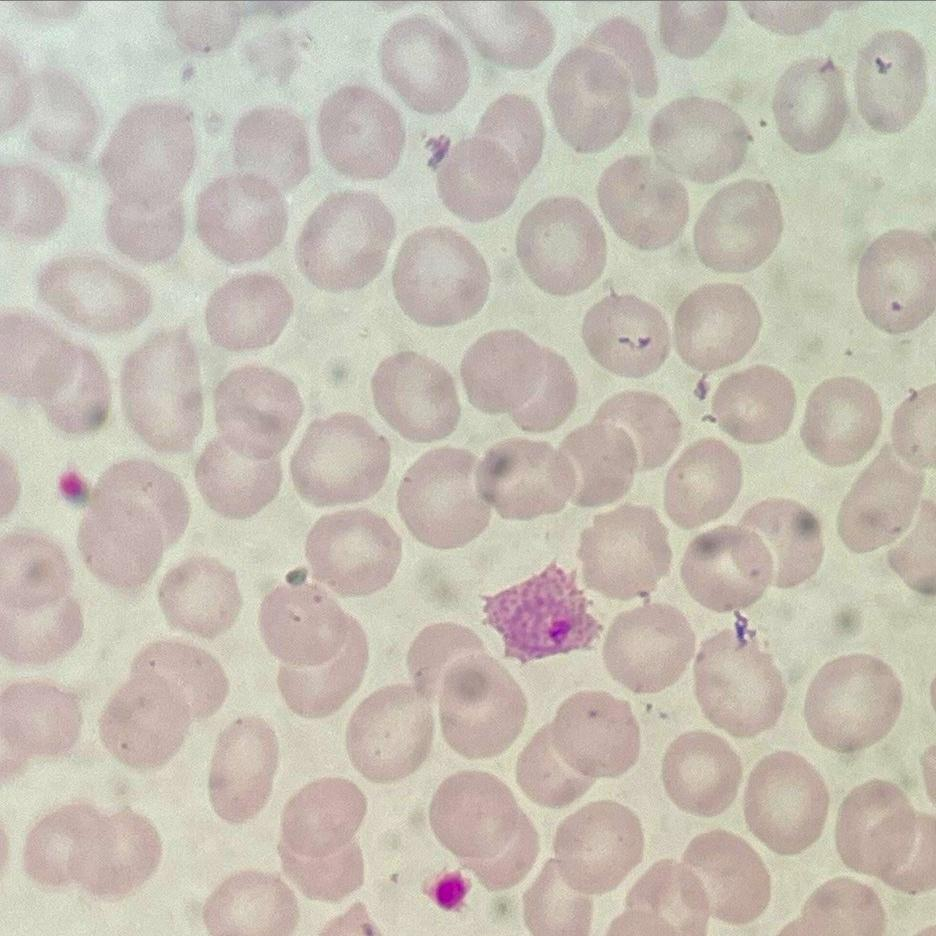Infected: (478, 559, 603, 656)
Uninfected: (98, 642, 228, 771), (1, 312, 111, 436), (78, 467, 189, 587), (25, 800, 156, 900), (459, 330, 575, 431), (428, 768, 536, 876), (426, 649, 527, 759), (119, 328, 206, 449), (295, 191, 398, 292), (100, 101, 200, 203), (691, 627, 785, 734), (833, 780, 927, 886), (288, 413, 392, 508), (390, 225, 488, 324), (545, 42, 636, 148), (802, 653, 901, 750), (516, 193, 608, 297), (396, 447, 492, 546), (35, 253, 149, 336), (278, 617, 372, 717), (209, 364, 306, 460), (377, 15, 471, 113), (574, 505, 670, 600), (194, 171, 293, 263), (837, 447, 922, 554), (547, 799, 643, 893), (546, 691, 641, 784), (594, 158, 688, 251), (370, 350, 465, 441), (302, 508, 400, 596), (649, 94, 749, 180), (473, 437, 574, 522), (853, 228, 936, 331), (433, 133, 529, 222), (741, 752, 827, 851), (278, 777, 370, 869), (316, 84, 407, 177), (344, 687, 434, 781), (690, 178, 779, 272), (12, 66, 100, 161), (600, 602, 693, 690), (678, 526, 771, 613), (1, 679, 83, 777), (578, 288, 669, 376), (672, 283, 761, 371), (853, 28, 929, 131), (736, 497, 821, 589), (560, 416, 645, 507), (680, 827, 765, 918), (772, 56, 852, 151), (661, 438, 744, 527), (229, 105, 315, 190), (264, 581, 351, 665), (799, 375, 881, 464), (204, 273, 294, 354), (207, 715, 277, 817), (591, 389, 680, 469), (1, 530, 78, 622), (156, 555, 241, 637), (708, 364, 795, 443), (514, 725, 597, 806), (660, 731, 740, 815), (196, 439, 282, 517), (1, 584, 84, 664), (104, 185, 190, 262), (584, 15, 660, 98), (473, 93, 545, 176), (404, 621, 490, 690), (623, 863, 711, 930), (521, 865, 593, 936), (889, 382, 936, 469), (659, 3, 729, 58)
